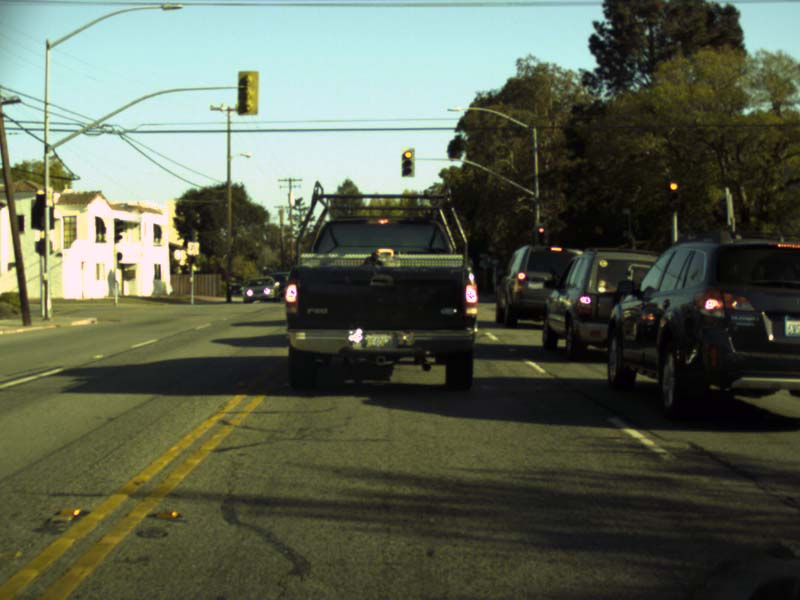Red: (667, 179, 679, 211), (401, 148, 414, 176), (535, 226, 545, 244)
